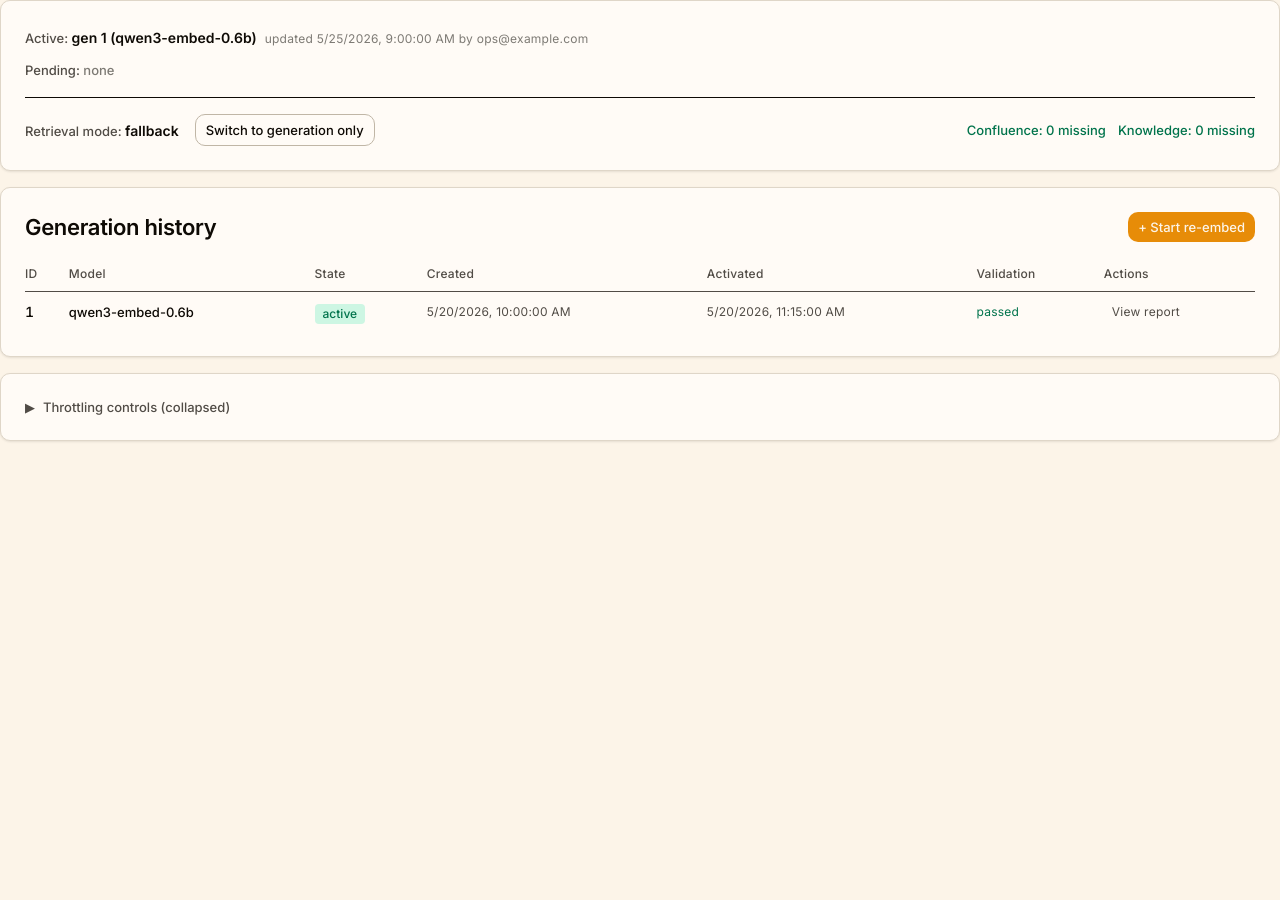
Scenario: EmbedderLifecyclePanel — validation report modal › View report opens modal showing the ValidationReportViewer
Step 1. Click the button with test id "btn-view-report-1" → point(1146, 312), box 1104,300 -> 1188,324
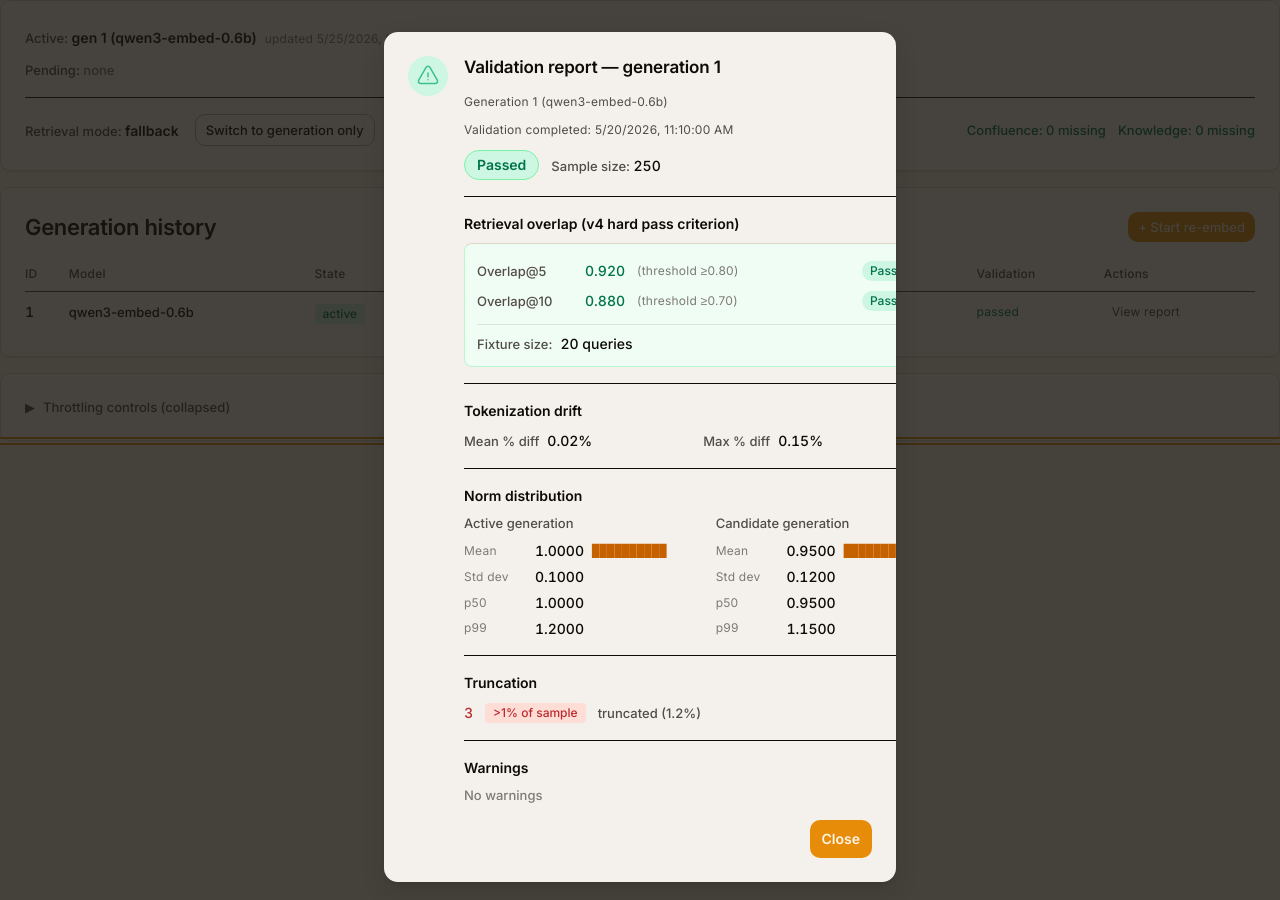
Check: the element with test id "report-modal-body" is shown, box 464,94 -> 896,804
Check: the element with test id "validation-report-viewer" is shown, box 464,150 -> 896,804
Check: the text with test id "passed-badge" reads "Passed", box 477,156 -> 526,174
